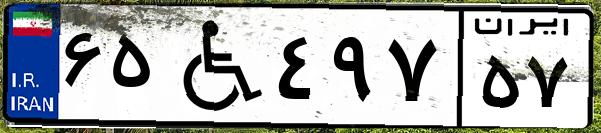4: (270, 28, 330, 110)
5: (475, 38, 525, 113), (110, 28, 158, 98)
6: (57, 26, 110, 100)
7: (385, 28, 445, 110), (525, 38, 570, 115)
9: (330, 28, 385, 110)
ژ (معلولین و جانبازان): (158, 12, 270, 120)
